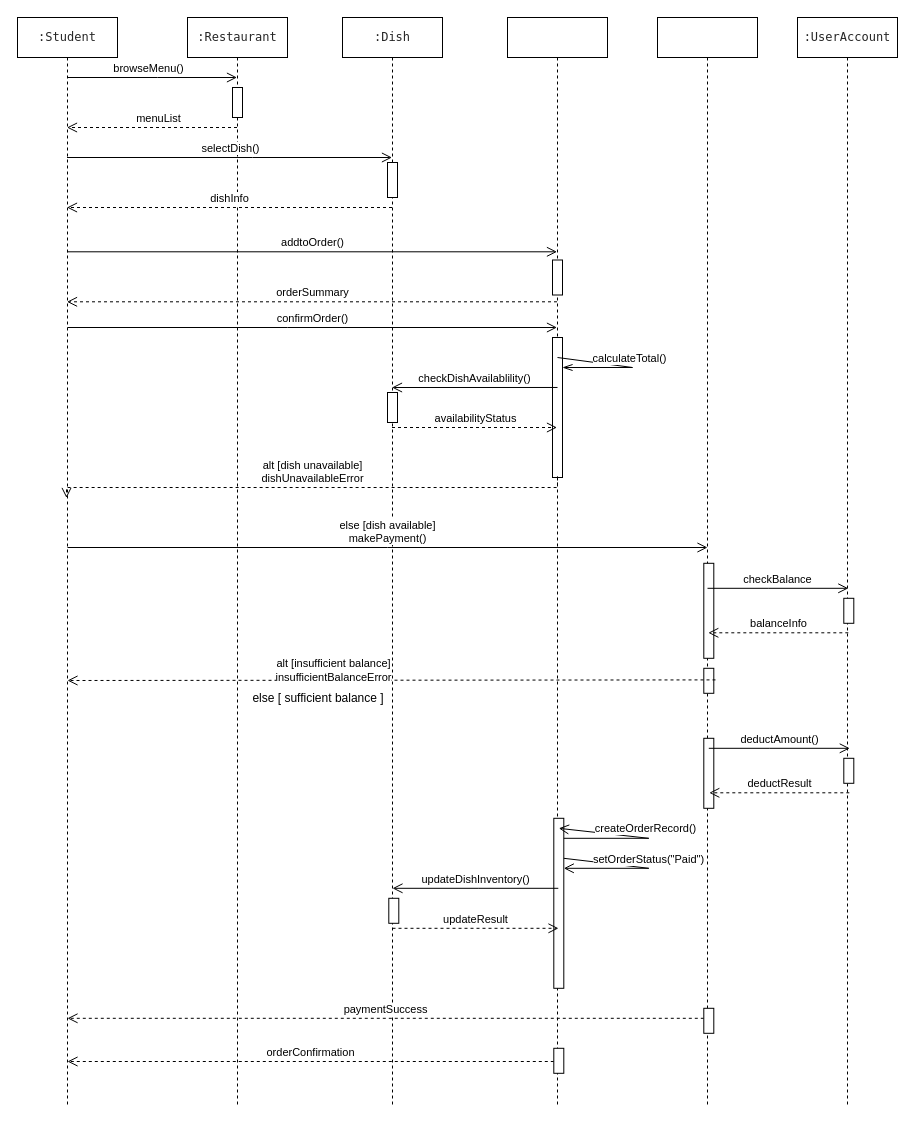
Image size: 915x1125. Some labels were removed from this diagram. The box of each missing label's shape, as (x1, y1, x2, y2) in pixels:
: Order: (506, 16, 608, 1108)
:PaymentService: (656, 16, 758, 1108)
